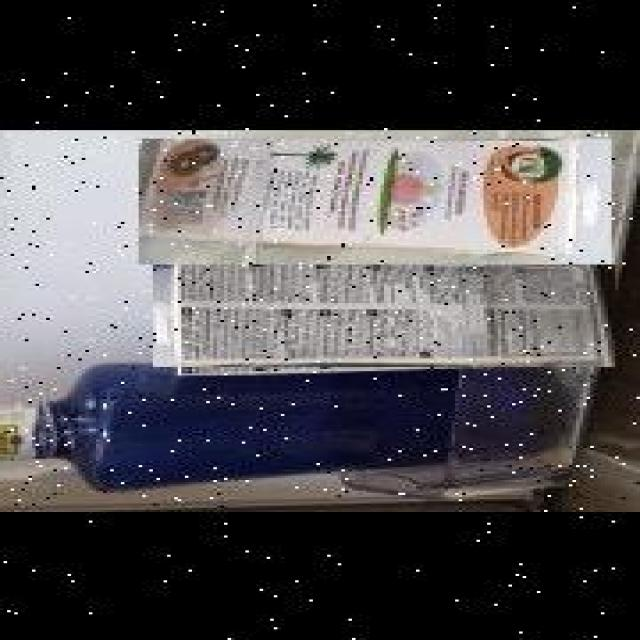milk: (138, 136, 612, 262), (155, 262, 617, 365)
